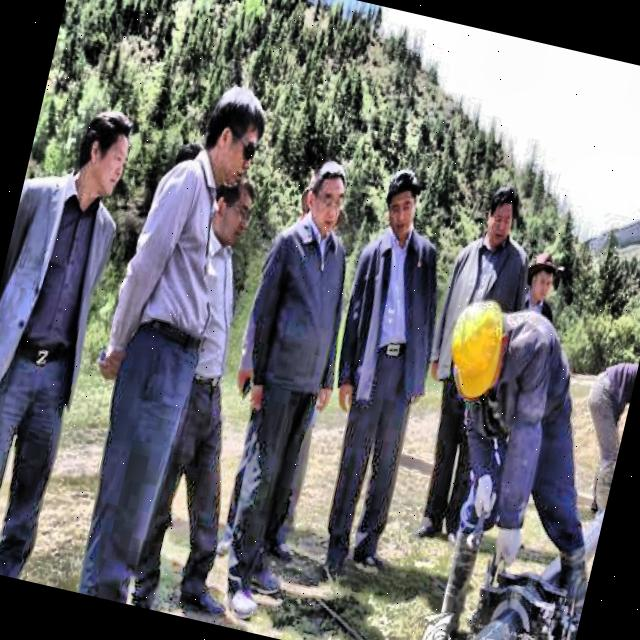helmet: (432, 286, 521, 406)
